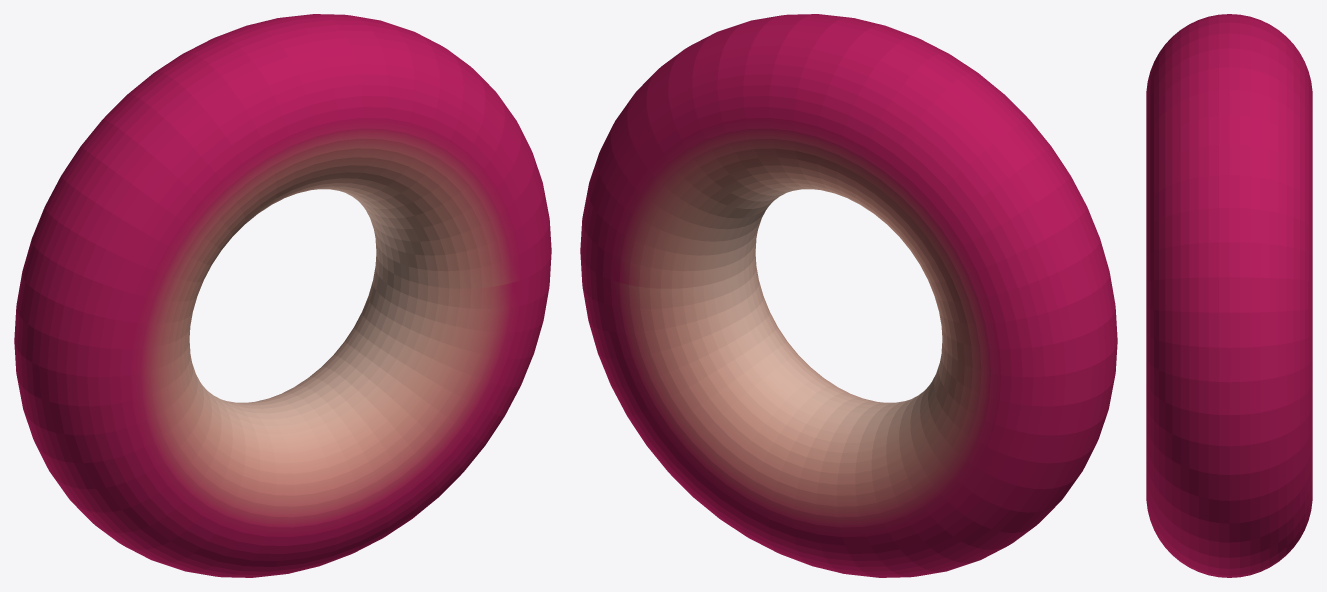
The picture shows the model from 3 angles, left to right: view 1: azimuth 30°, elevation 25°; view 2: azimuth 150°, elevation 25°; view 3: azimuth 270°, elevation 25°; orthographic projection. The views are drawn at different scales.
Parts seen in each view (by area): view 1: world; view 2: world; view 3: world.
Part boxes in pixels (x1,y1,x2,y2): world: [14, 14, 551, 577]; world: [580, 14, 1117, 577]; world: [1146, 14, 1312, 577].
Bounding box in the file's own units: 29.33 × 29.28 × 8.65.
